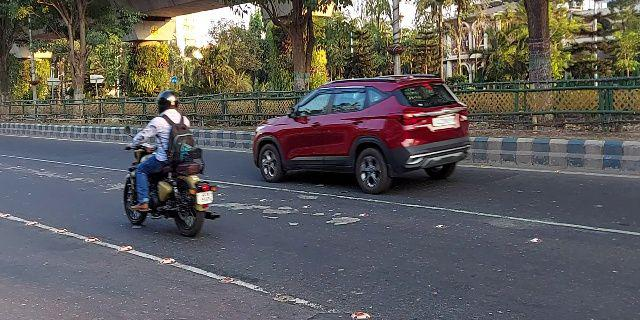Car: (250, 73, 471, 195)
Motorbike: (117, 86, 224, 241)
